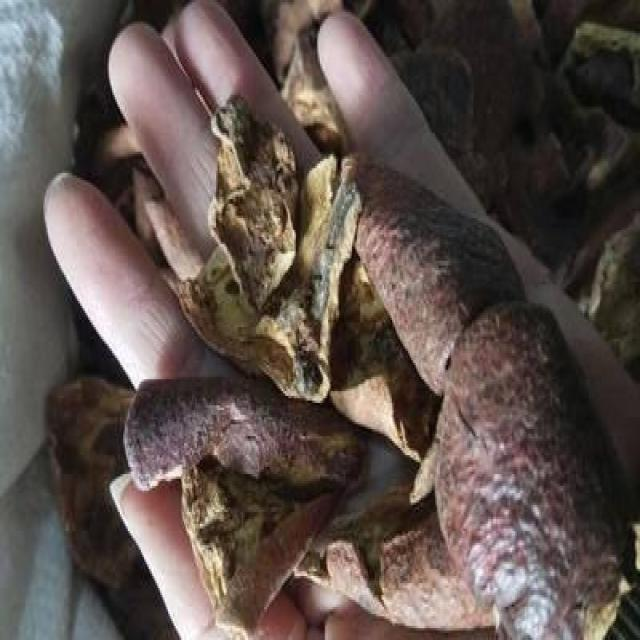Wet: (40, 2, 638, 638)
